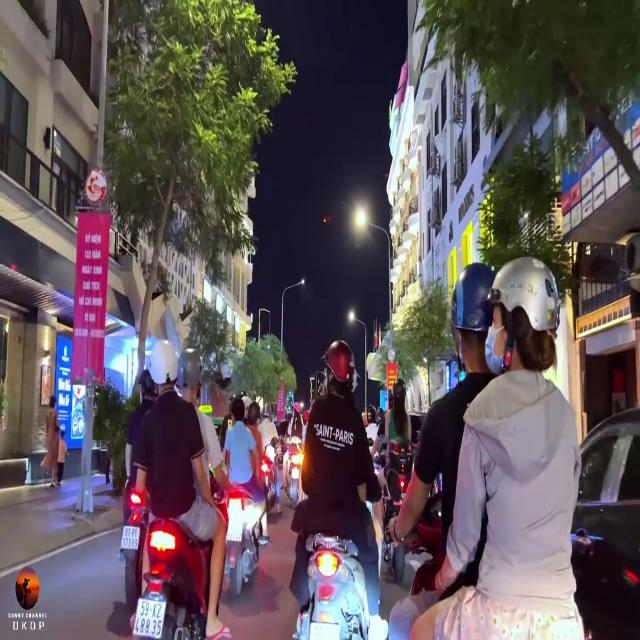bien_trang: (135, 599, 168, 636), (120, 526, 140, 550)
